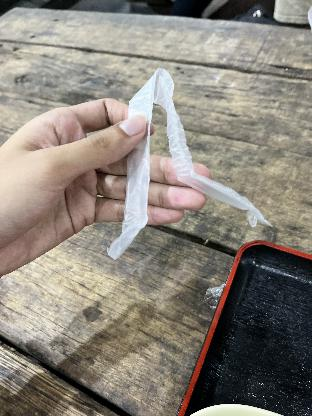Others: (114, 63, 272, 259)
